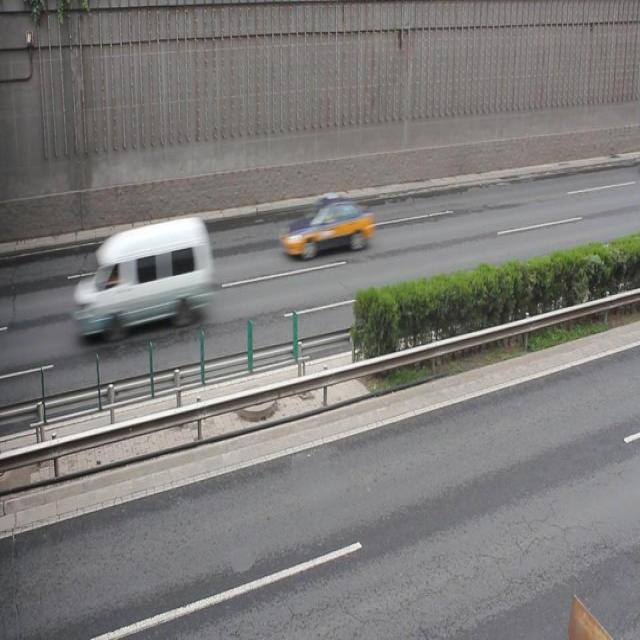car: (281, 198, 376, 258)
truck: (72, 216, 210, 334)
